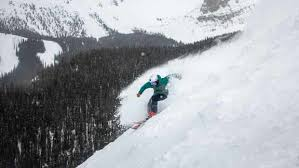skis: (131, 106, 164, 128)
